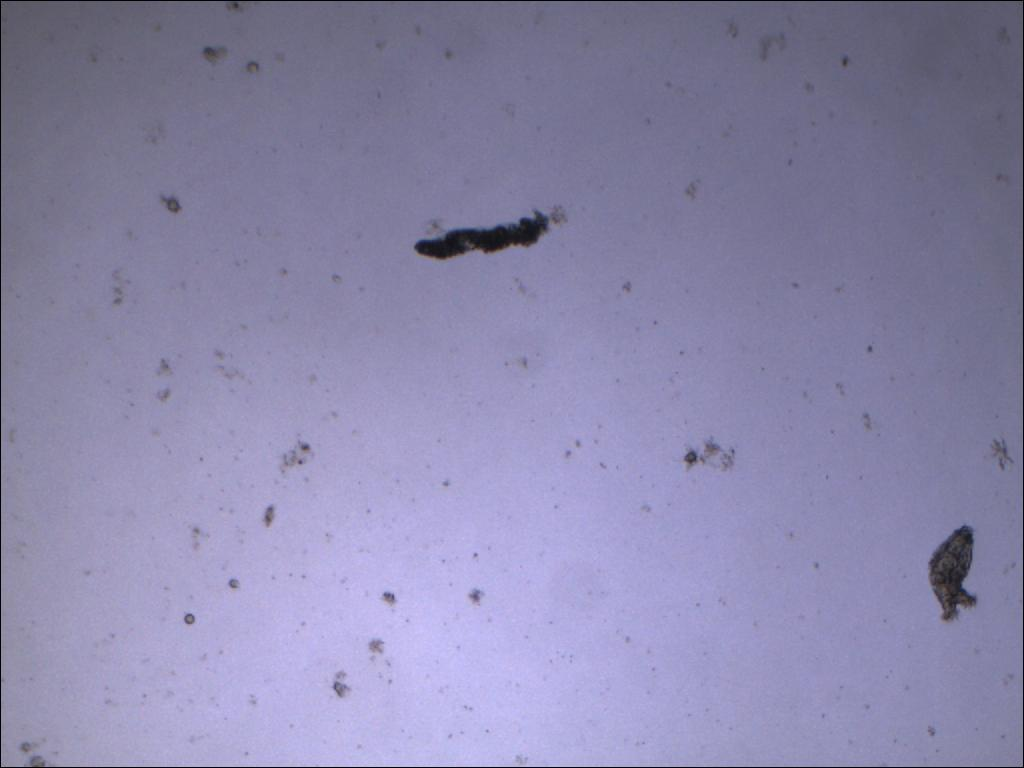amoeba: (410, 208, 562, 271)
